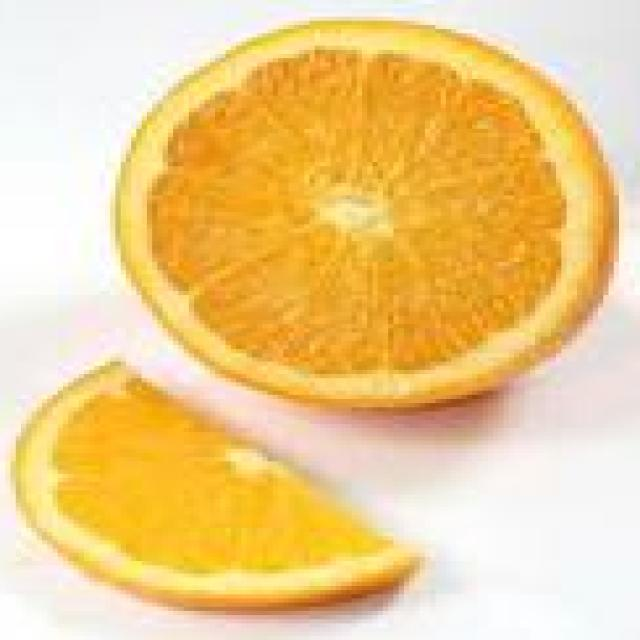orange: (16, 8, 624, 611)
